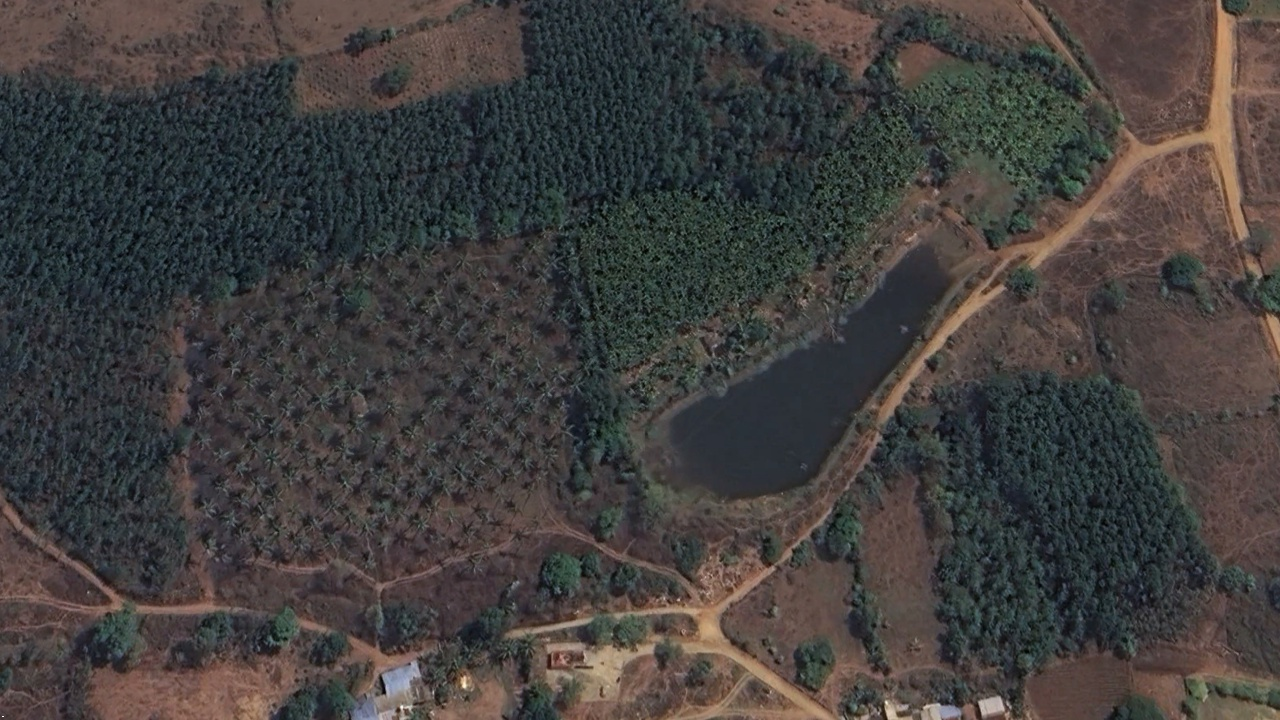arecanut: (570, 210, 901, 321), (910, 65, 1055, 179)
